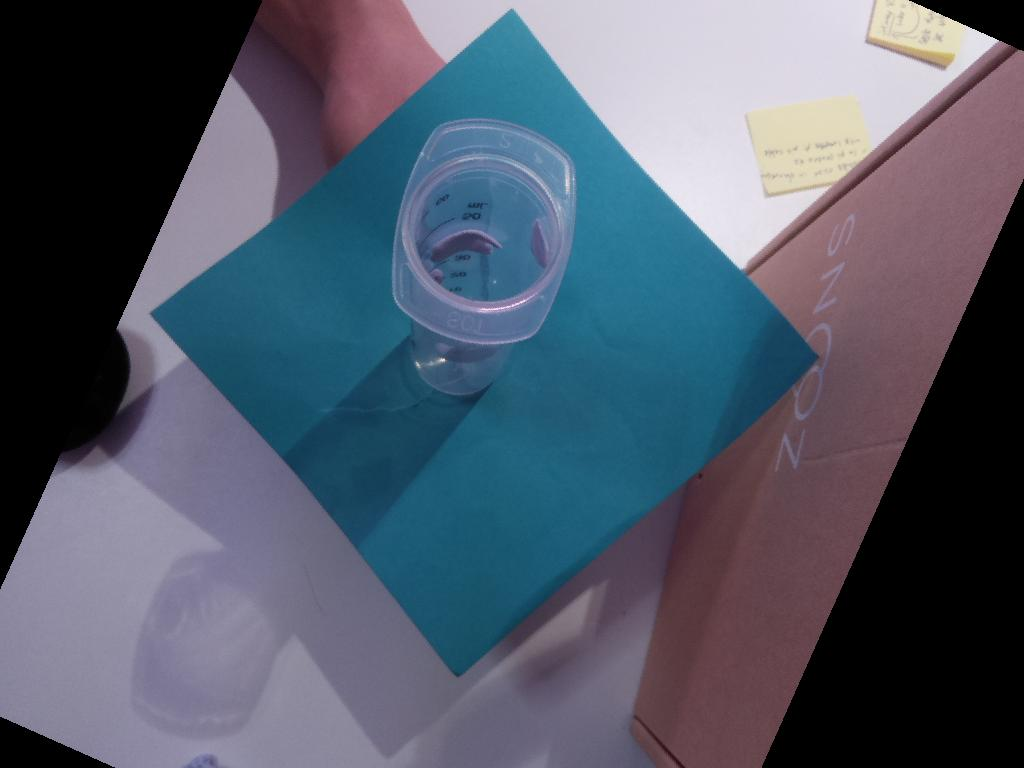dirty: (390, 119, 576, 343)
